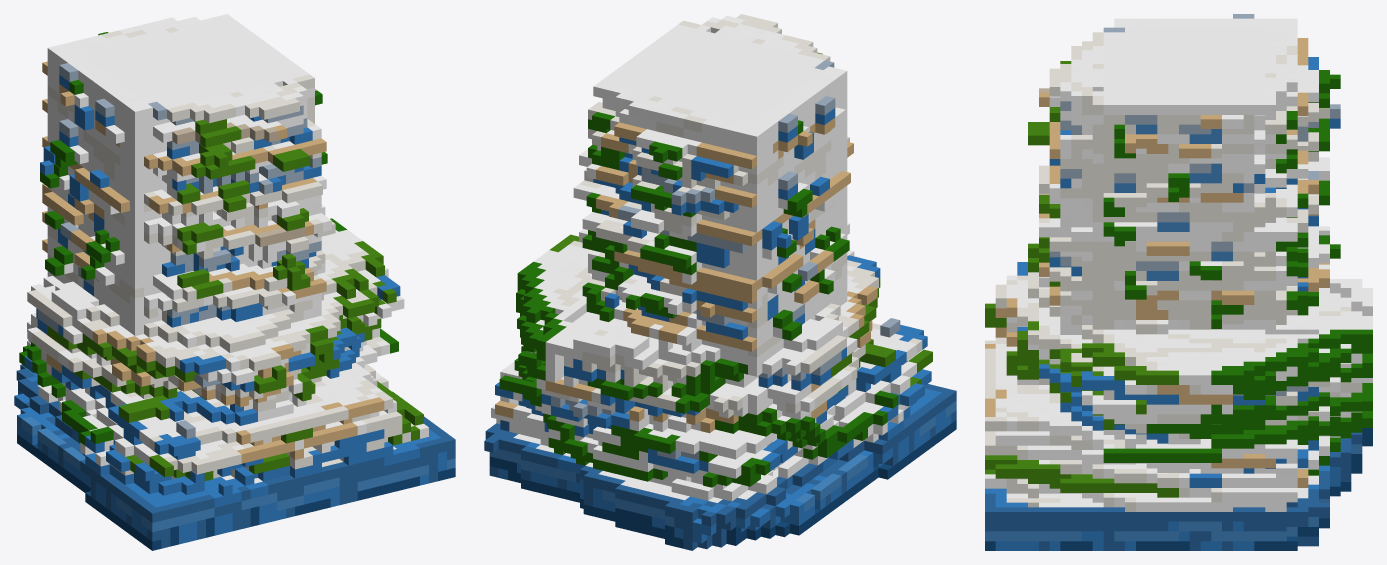
The model's file is WONDERWOOD.fbx.
3 views of the same model, side by side, from view 1: azimuth 30°, elevation 25°; view 2: azimuth 150°, elevation 25°; view 3: azimuth 270°, elevation 25° (orthographic). The views are drawn at different scales.
Visible parts, largest first — view 1: Layer.6; view 2: Layer.6; view 3: Layer.6.
Part boxes in pixels (bbox=[...]): Layer.6: bbox=[14, 14, 455, 550]; Layer.6: bbox=[484, 14, 956, 550]; Layer.6: bbox=[985, 14, 1372, 550].
Size of the model in its own units: 3400 by 4100 by 3600.
Materials: 1 (1 with a texture image).
